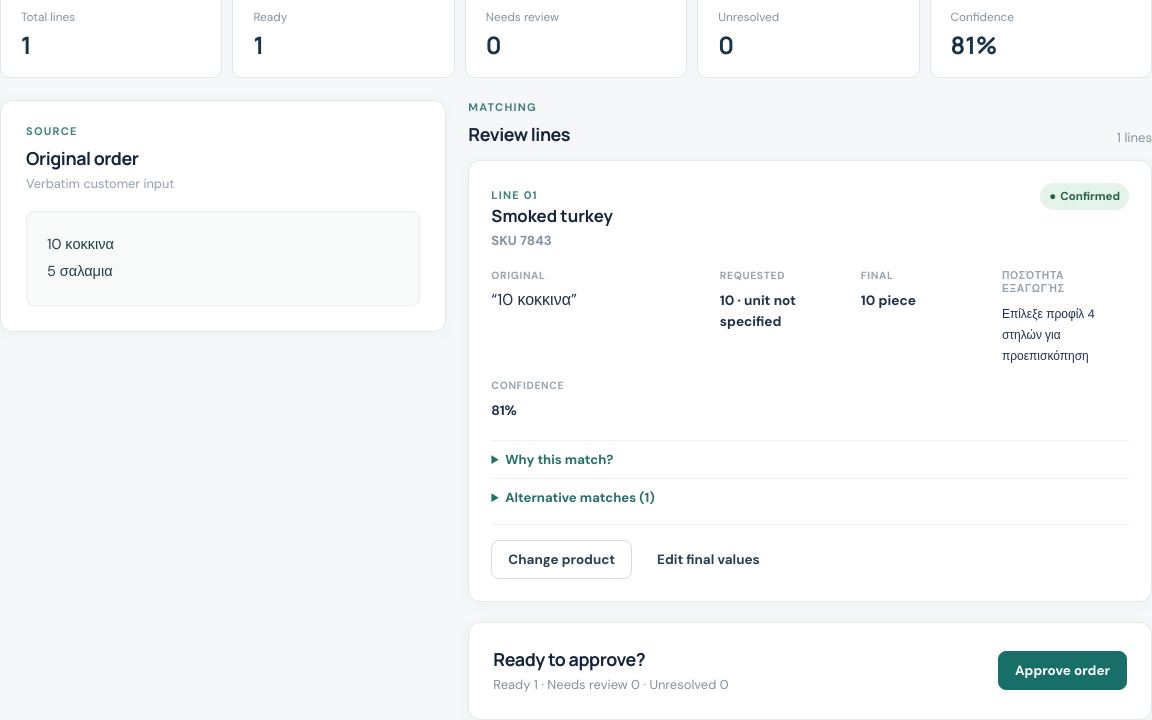
operator review › approves ready lines and removes edit controls
(page scrolled)
Click the button "Approve order".
click(1063, 671)  # box [998, 651, 1127, 690]
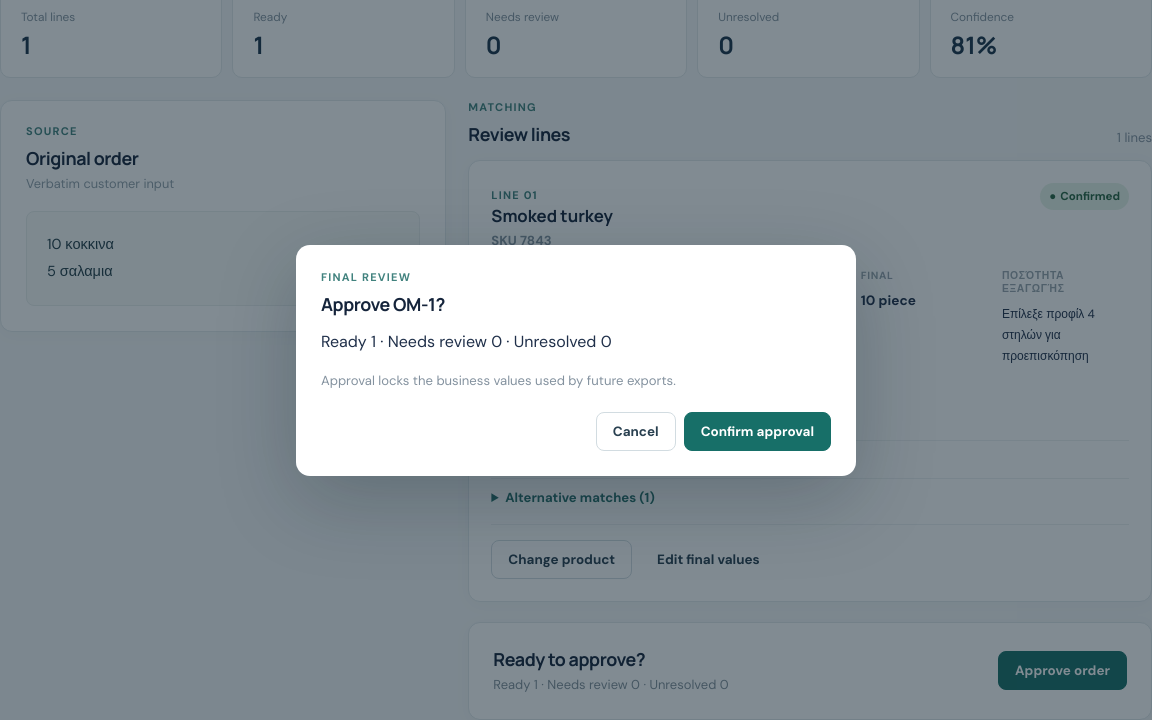
Check: the dialog named "Approve order" is shown, box [296, 244, 856, 476]
Click the button "Confirm approval".
click(757, 431)  # box [684, 412, 831, 450]
(page scrolled)
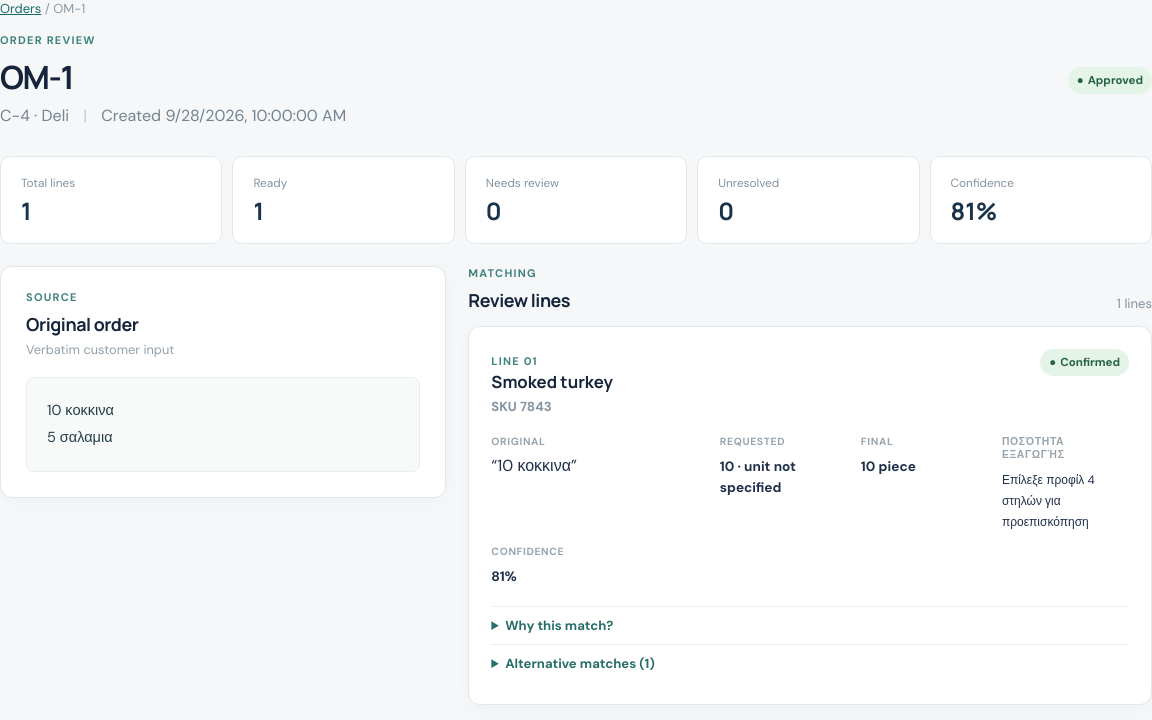
Check: the text "Approved" is shown, box [1088, 73, 1143, 88]
Check: the button "Change product" is gone
Check: the button "Edit final values" is gone
